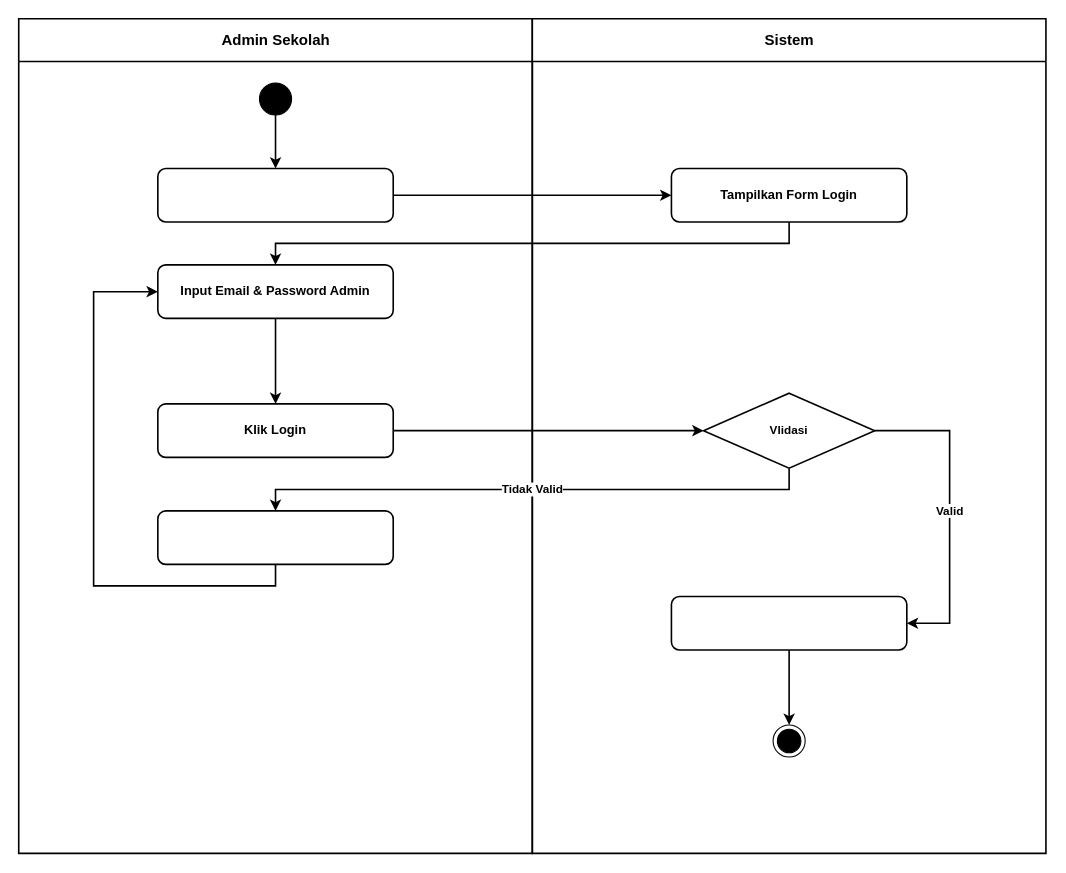
Image size: 1066x873. Some labels were removed from this diagram. The shapes that lost their labels are listed below. From the top down, each one's centre as x and y in pixels, then its label:
(275,194): Buka Halaman Login
(275,537): Tampil Error Login
(788,622): Tampilkan Dasboard
